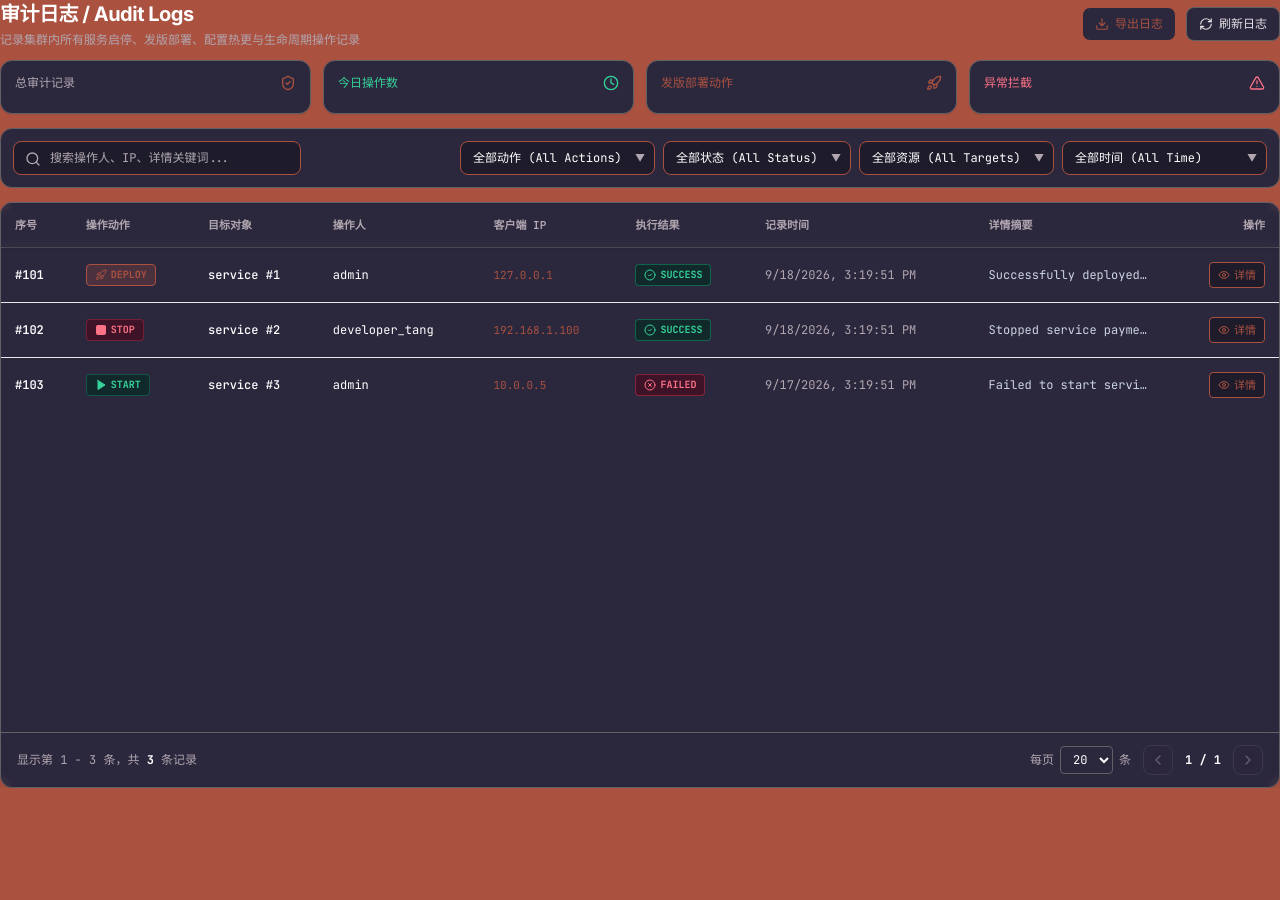
Test: AuditList Component › opens detail drawer when clicking a log row
The width and height of the screenshot is (1280, 900).
Check: the text "order-center" is shown, box [989,267,1279,283]
Click the button with aria-label "查看详情": click(1237, 275) [1209,262,1265,288]
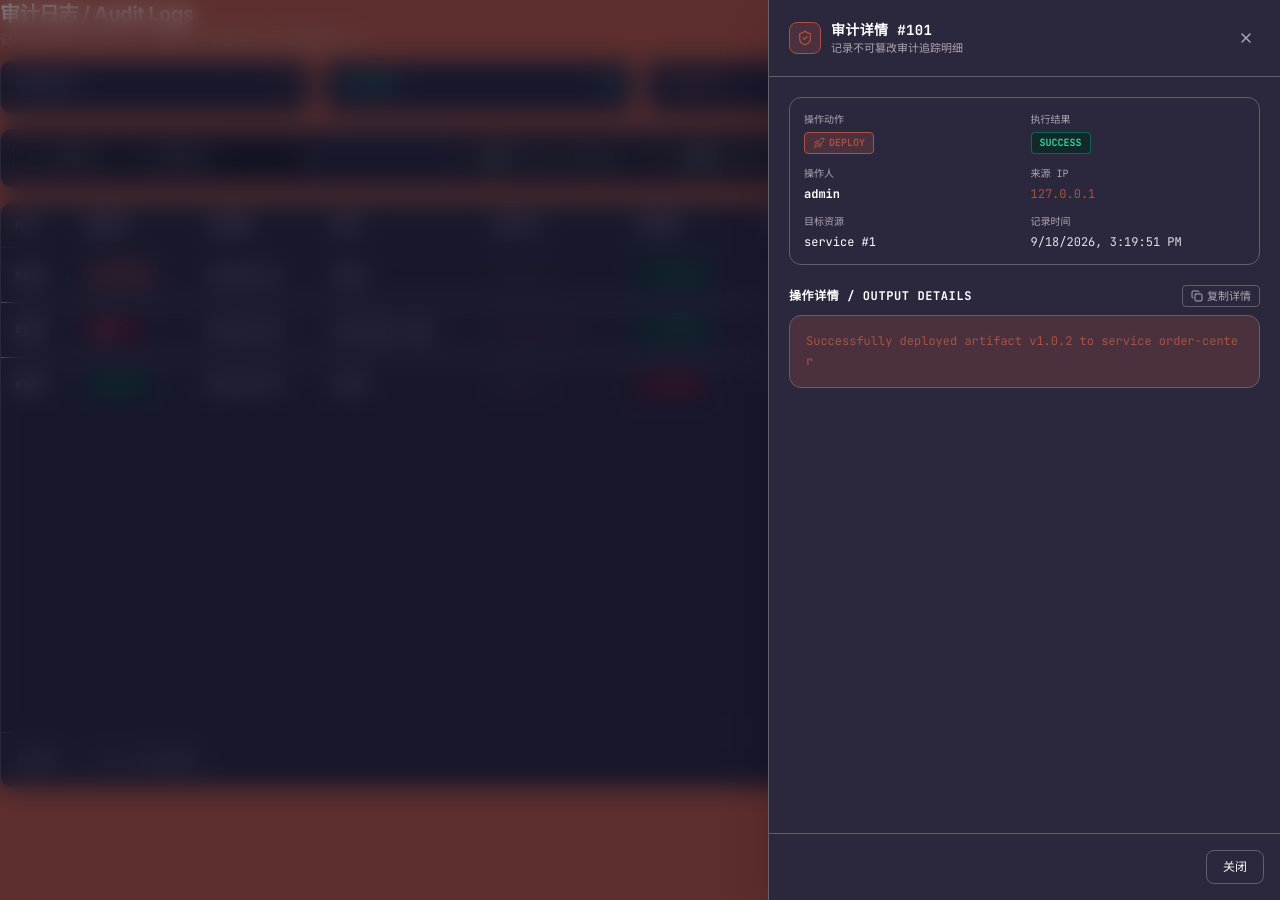
Check: the text "order-center" below "详情摘要" is shown, box [989,267,1279,283]
Check: the heading "审计详情 #101" is shown, box [831,21,932,39]
